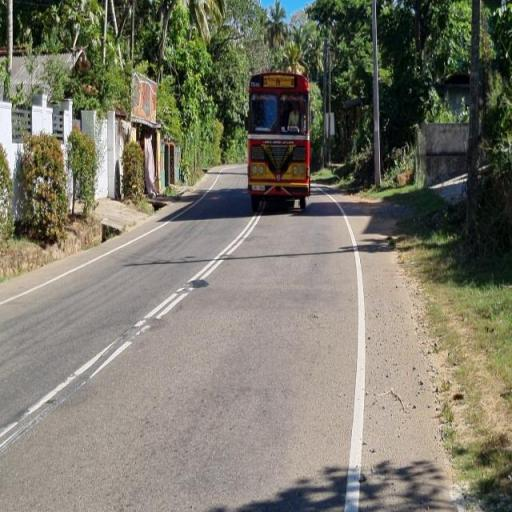double_white_line: (134, 211, 262, 337)
